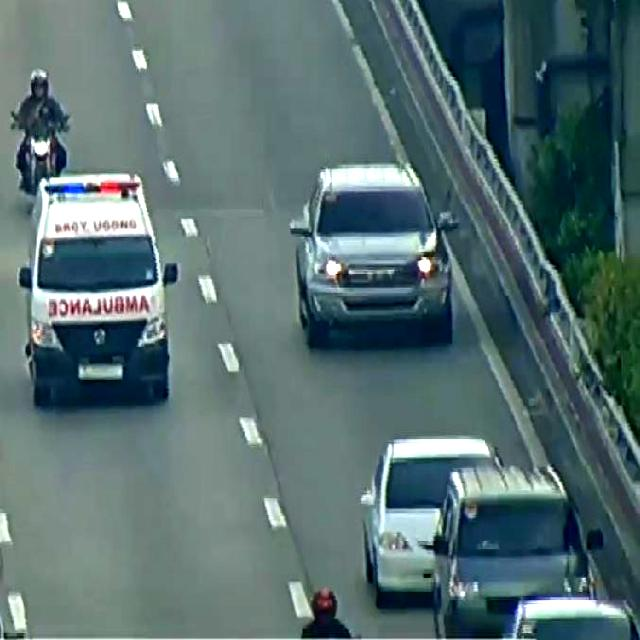emergency: (19, 178, 182, 400)
